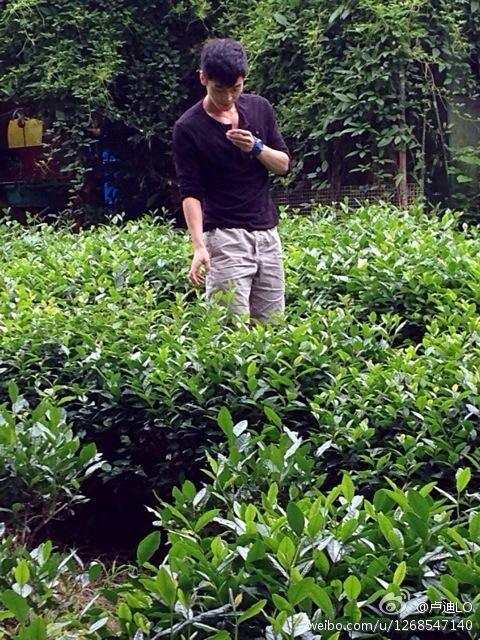person: (141, 43, 294, 327)
